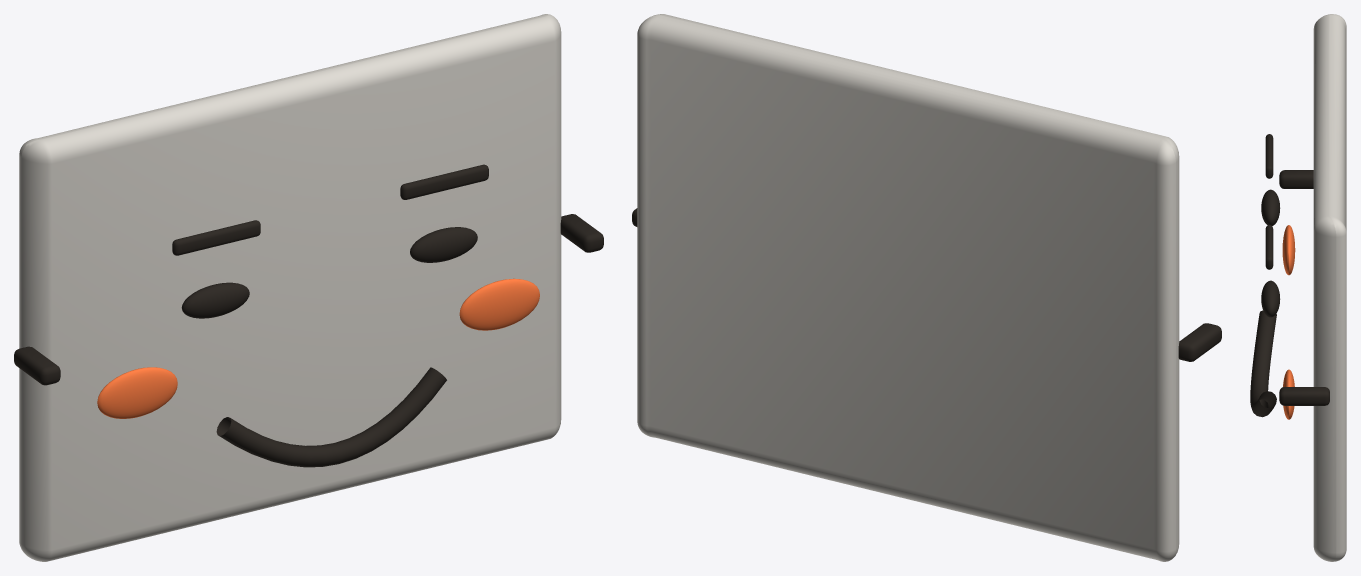
File: topeng.glb
The picture shows the model from 3 angles, left to right: view 1: azimuth 30°, elevation 25°; view 2: azimuth 150°, elevation 25°; view 3: azimuth 270°, elevation 25°; orthographic projection. The views are drawn at different scales.
Parts seen in each view (by area): view 1: topeng; view 2: topeng; view 3: topeng.
Boxes of the visible parts, x1=… form: topeng: x1=14, y1=14, x2=603, y2=561; topeng: x1=632, y1=14, x2=1221, y2=561; topeng: x1=1250, y1=14, x2=1346, y2=561.
Bounding box in the file's own units: 1 × 0.7143 × 0.1813.
